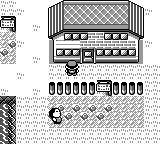captura: (0, 104, 8, 143)
leer: (96, 79, 112, 95), (0, 16, 16, 32)
main: (64, 60, 80, 76)
mo: (0, 96, 16, 143)
no-caminable: (48, 0, 144, 63), (49, 81, 96, 95), (113, 81, 143, 95)
npc: (49, 107, 63, 124)
puerta: (82, 49, 94, 63)
